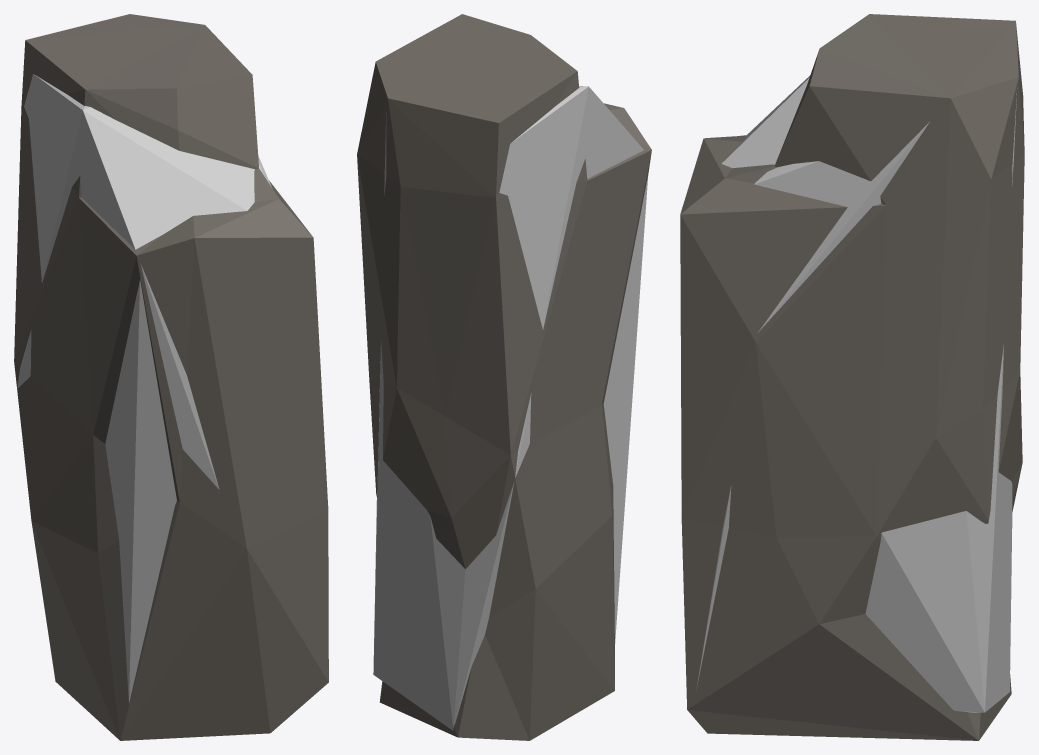
Rendered from SM_Env_Rock_03.fbx.
3 views of the same model, side by side, from view 1: azimuth 30°, elevation 25°; view 2: azimuth 150°, elevation 25°; view 3: azimuth 270°, elevation 25° (orthographic). The views are drawn at different scales.
Visible parts, largest first — view 1: SM_Env_Rock_03, SM_Env_Rock_03_ConvexHulls; view 2: SM_Env_Rock_03, SM_Env_Rock_03_ConvexHulls; view 3: SM_Env_Rock_03, SM_Env_Rock_03_ConvexHulls.
Boxes of the visible parts, x1,y1,x2,y2 form: SM_Env_Rock_03: [14, 14, 328, 740]; SM_Env_Rock_03_ConvexHulls: [17, 74, 271, 703]; SM_Env_Rock_03: [357, 14, 651, 740]; SM_Env_Rock_03_ConvexHulls: [373, 86, 648, 730]; SM_Env_Rock_03: [680, 14, 1024, 740]; SM_Env_Rock_03_ConvexHulls: [696, 75, 1017, 712].
Bounding box in the file's own units: 308 × 457 × 986.
Materials: 2 (1 with a texture image).
